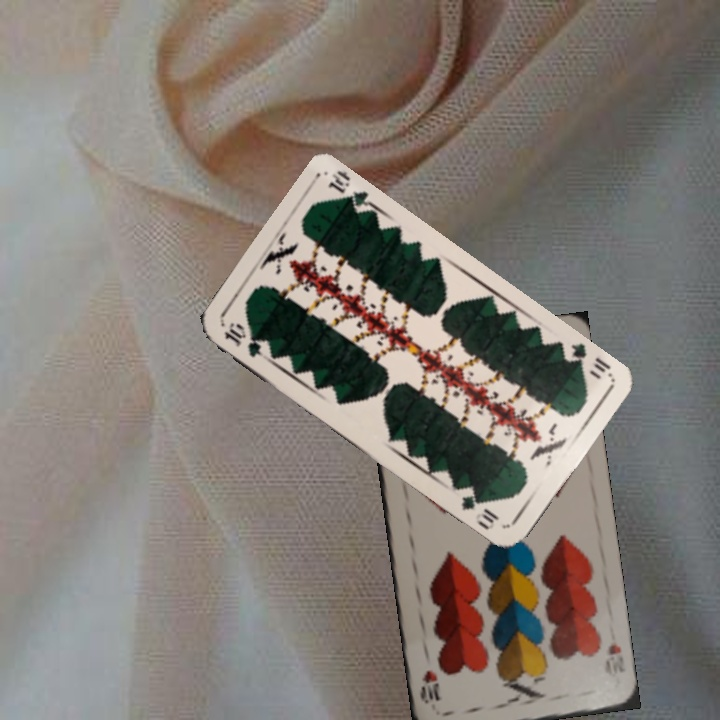G10: (558, 339, 614, 380), (220, 319, 270, 362)
H10: (600, 640, 627, 680)
